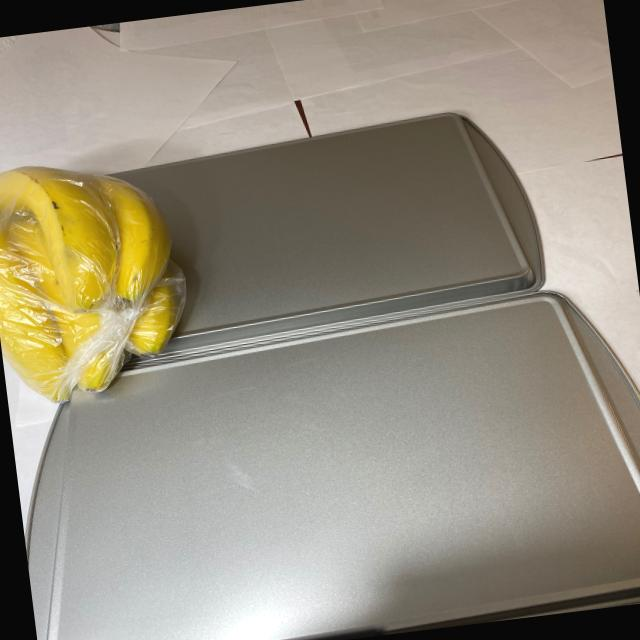banana: (0, 144, 201, 417)
